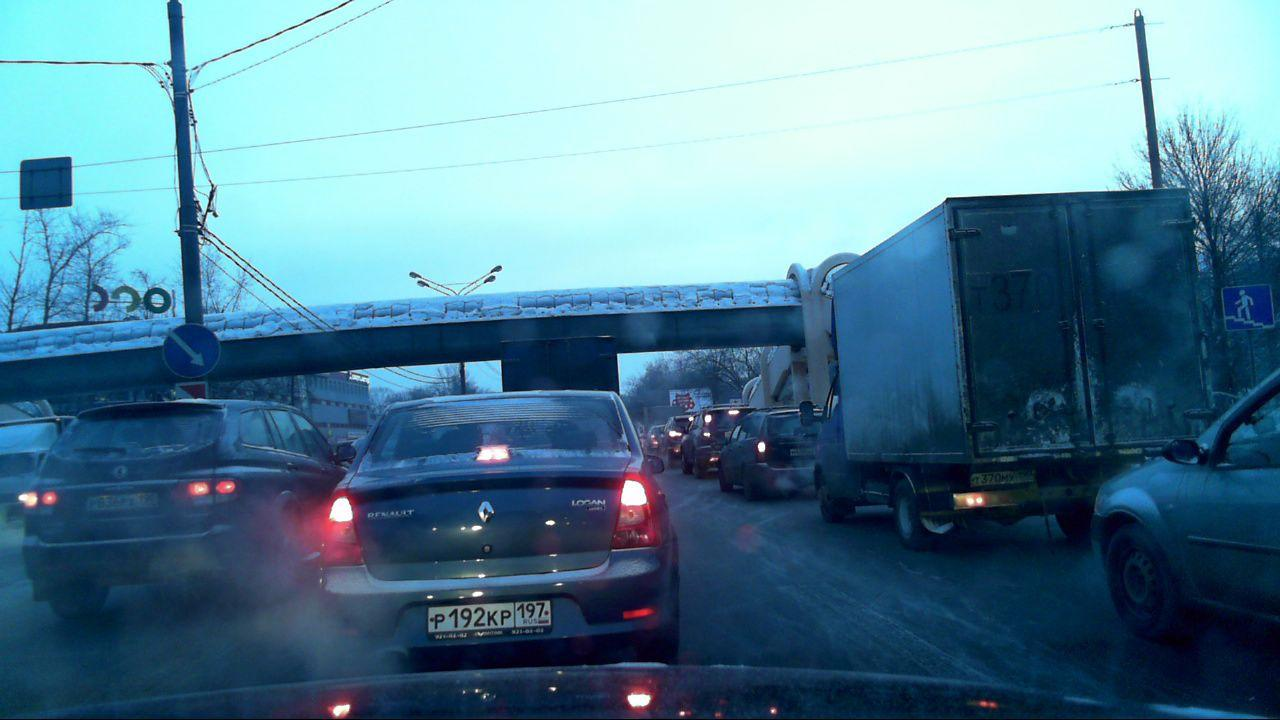4_2_1: (162, 322, 221, 377)
6_7: (1220, 282, 1276, 334)
8_22_1: (169, 381, 213, 399)
